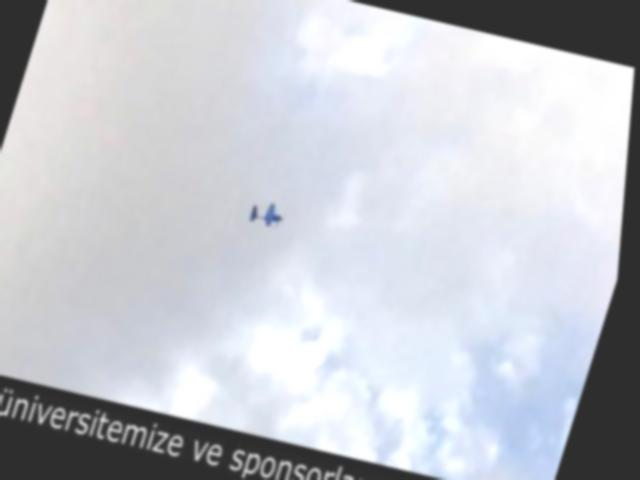uav: (239, 188, 301, 241)
